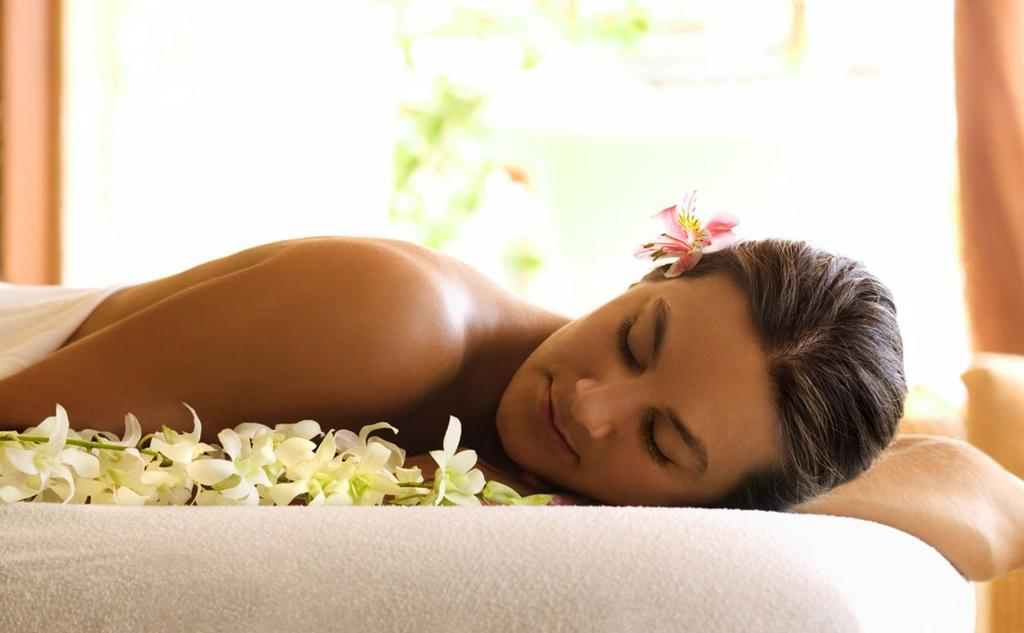face: (494, 284, 730, 506)
